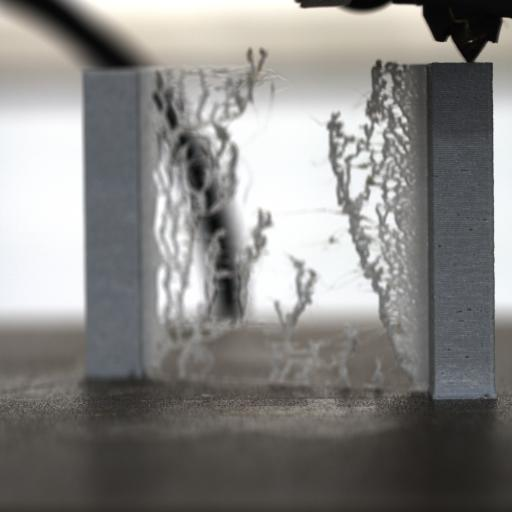stringing: (142, 50, 276, 380)
